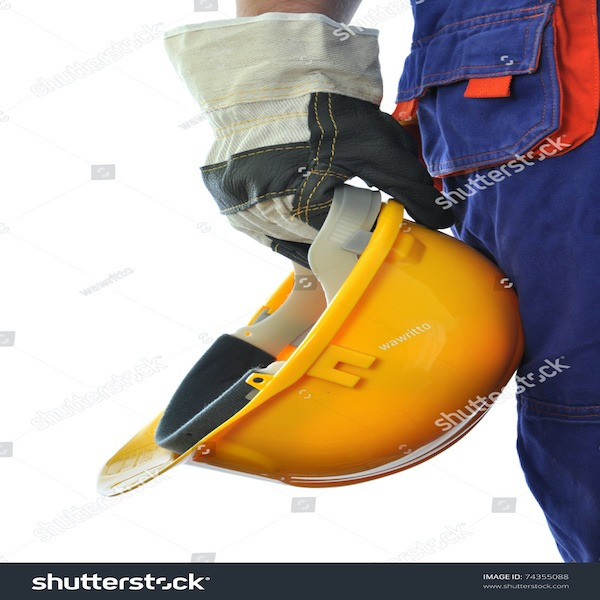helmet: (193, 208, 508, 500)
